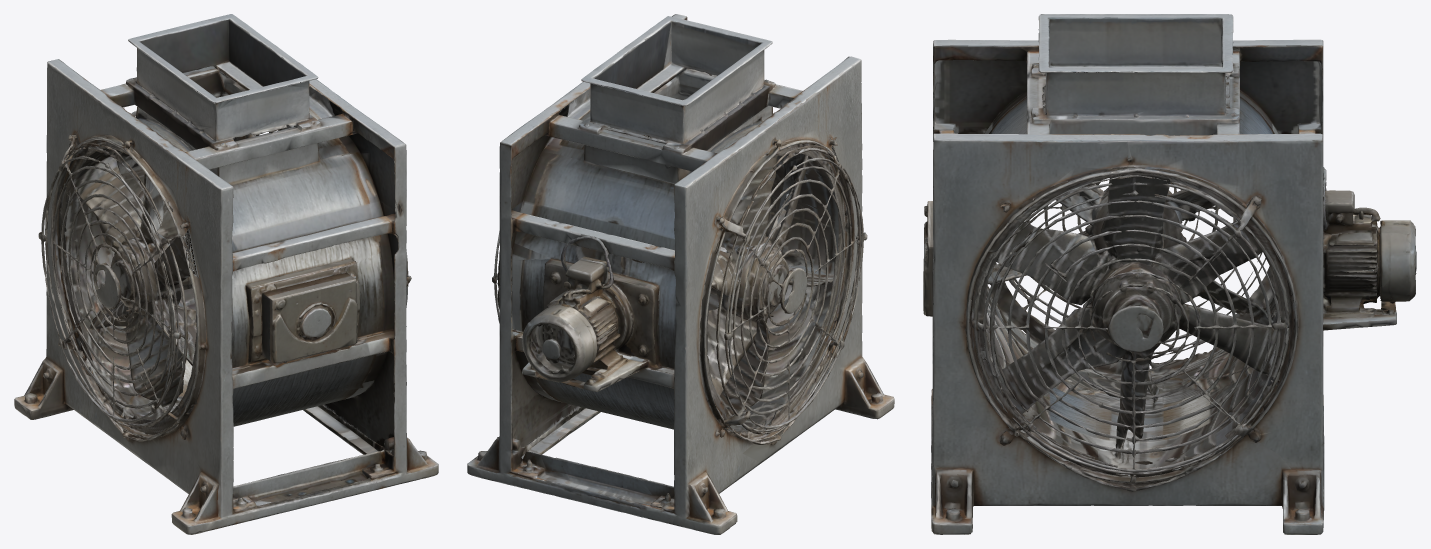
File: Props_ExhaustFan.fbx
The picture shows the model from 3 angles, left to right: view 1: azimuth 30°, elevation 25°; view 2: azimuth 150°, elevation 25°; view 3: azimuth 270°, elevation 25°; orthographic projection. The views are drawn at different scales.
Parts seen in each view (by area): view 1: Props_ExhaustFan; view 2: Props_ExhaustFan; view 3: Props_ExhaustFan.
Part boxes in pixels (x1=…): Props_ExhaustFan: x1=14, y1=14, x2=438, y2=534; Props_ExhaustFan: x1=467, y1=14, x2=894, y2=534; Props_ExhaustFan: x1=923, y1=14, x2=1416, y2=534.
Bounding box in the file's own units: 65.62 × 94.52 × 99.56.
